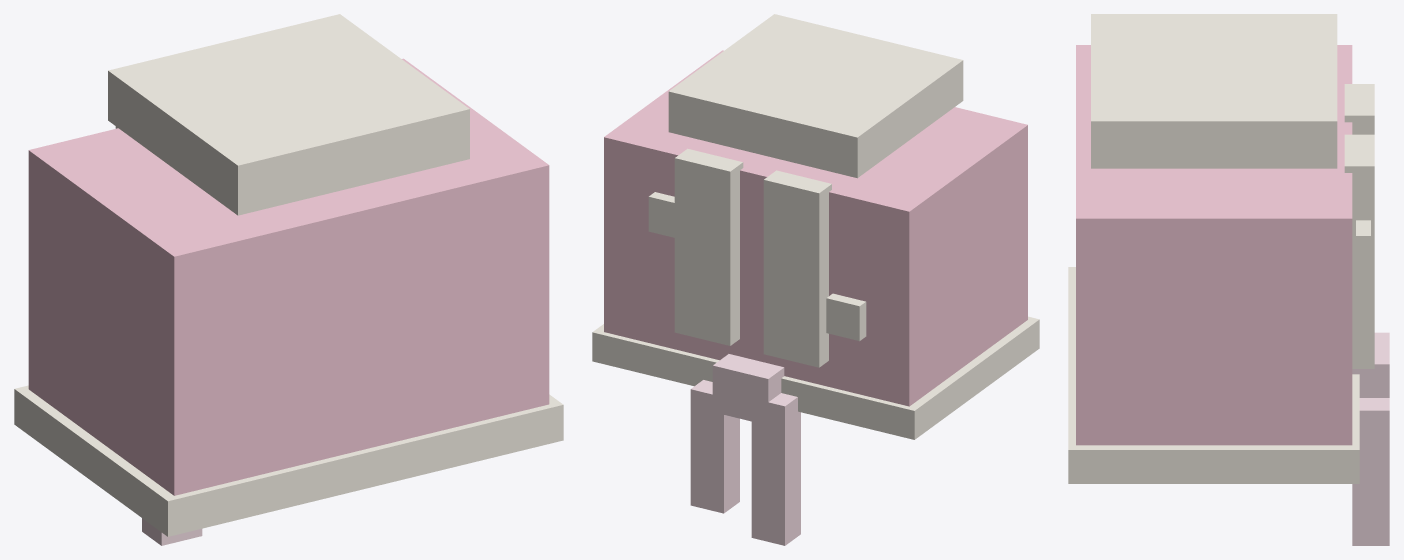
Rendered from hanbok_tronco.glb.
The picture shows the model from 3 angles, left to right: view 1: azimuth 30°, elevation 25°; view 2: azimuth 150°, elevation 25°; view 3: azimuth 270°, elevation 25°; orthographic projection. The views are drawn at different scales.
Parts seen in each view (by area): view 1: hanbok_tronco; view 2: hanbok_tronco; view 3: hanbok_tronco.
Boxes of the visible parts, x1,y1,x2,y2 form: hanbok_tronco: [14, 14, 563, 545]; hanbok_tronco: [592, 14, 1039, 545]; hanbok_tronco: [1068, 14, 1389, 545].
Bounding box in the file's own units: 0.58 × 0.695 × 0.43.
